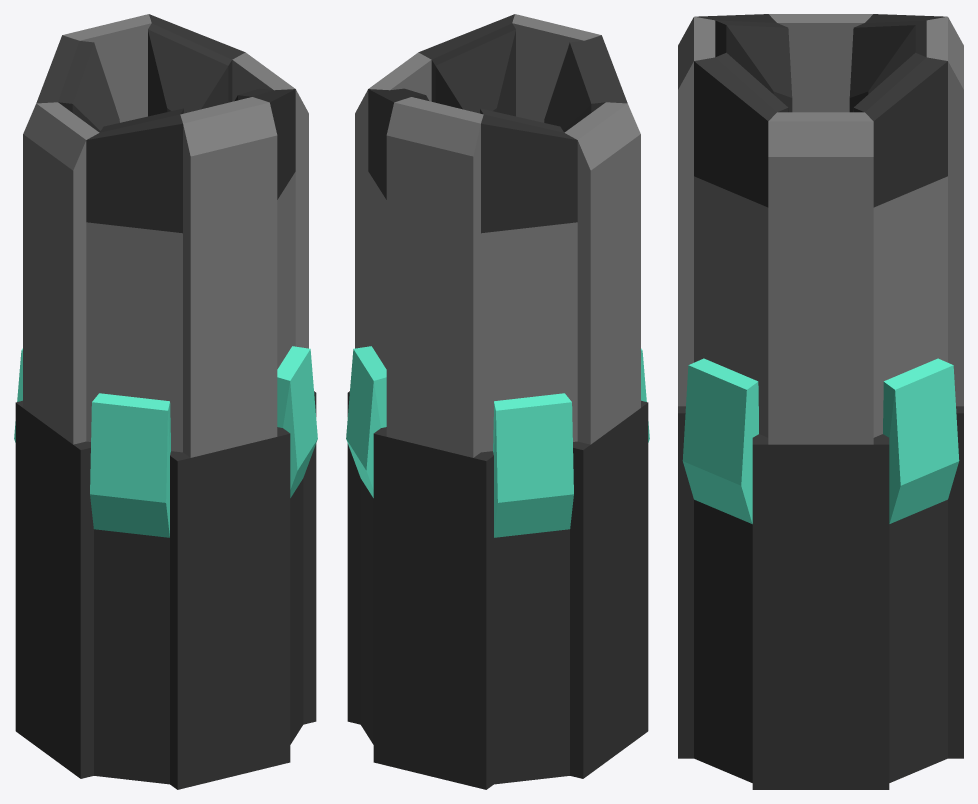
File: Mcannon.obj
3 views of the same model, side by side, from view 1: azimuth 30°, elevation 25°; view 2: azimuth 150°, elevation 25°; view 3: azimuth 270°, elevation 25° (orthographic). The views are drawn at different scales.
Parts seen in each view (by area): view 1: tube, tube_selection; view 2: tube, tube_selection; view 3: tube, tube_selection.
Boxes of the visible parts, left/top/right/bottom form: tube: left=15, top=14, right=316, bottom=789; tube_selection: left=14, top=14, right=317, bottom=537; tube: left=347, top=14, right=648, bottom=789; tube_selection: left=346, top=14, right=649, bottom=537; tube: left=678, top=14, right=963, bottom=789; tube_selection: left=682, top=14, right=959, bottom=523.
Bounding box in the file's own units: 1.12 × 3 × 1.12.
